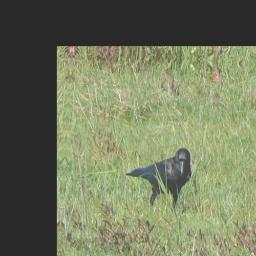Crow: (121, 142, 193, 214)
